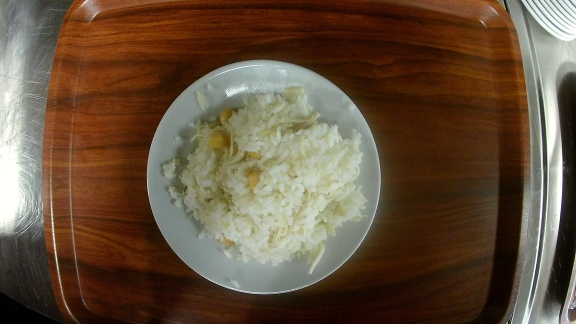nohutlupilav: (146, 59, 382, 297)
